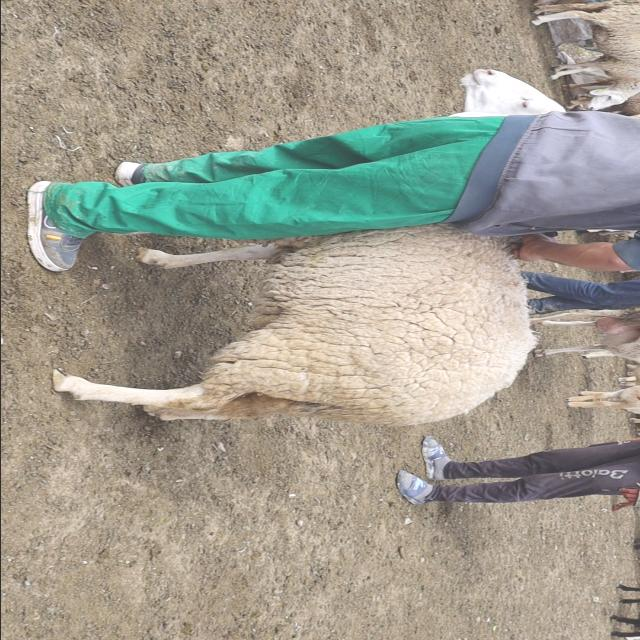Score_4: (52, 224, 535, 425)
